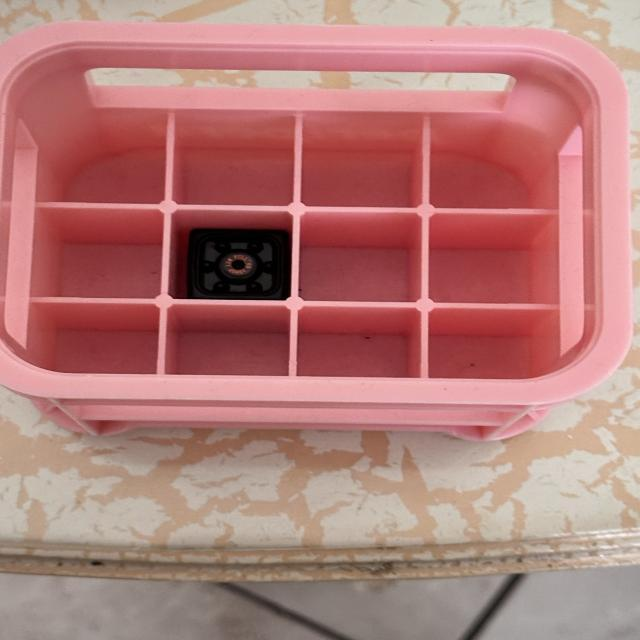hidden camera: (220, 253, 255, 278)
